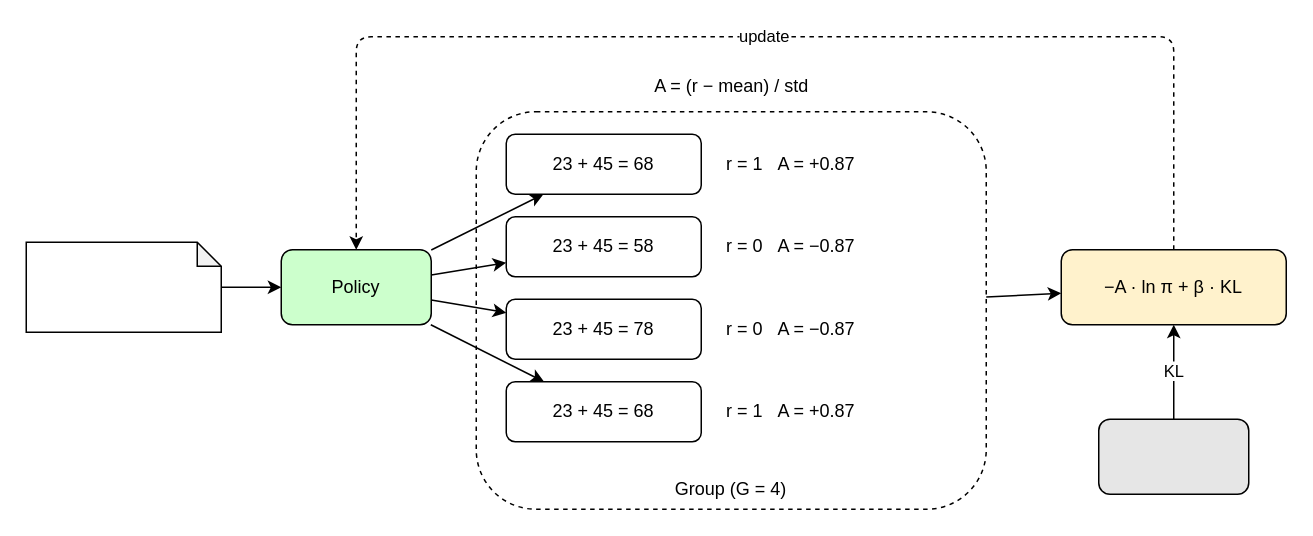
This 1313x536 diagram has some shape labels left out. Each missing label, with the centre of its shape:
Reference: the point at 1173,456
What is 23 + 45?: the point at 123,286
